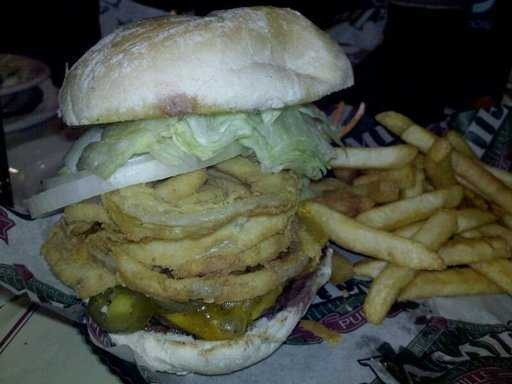hamburger: (70, 5, 366, 356)
